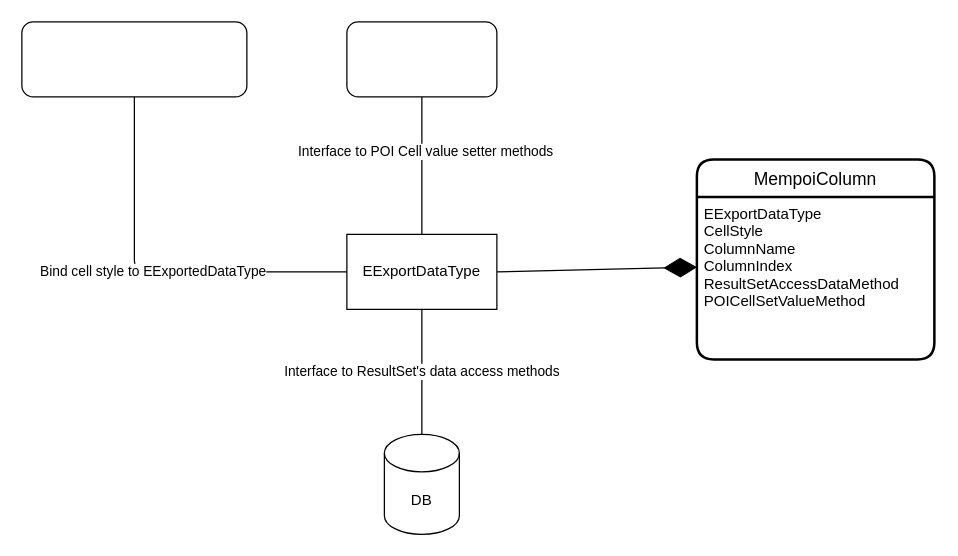
The diagram is 958 pixels wide and 556 high, and some of its shapes have lost their labels. The shapes that lost their labels are listed below. From the top down, each one's centre as x and y in pixels, then its label:
At (134,59): "MempoiColumnStyleManager".
At (421,59): "Apache POI".
